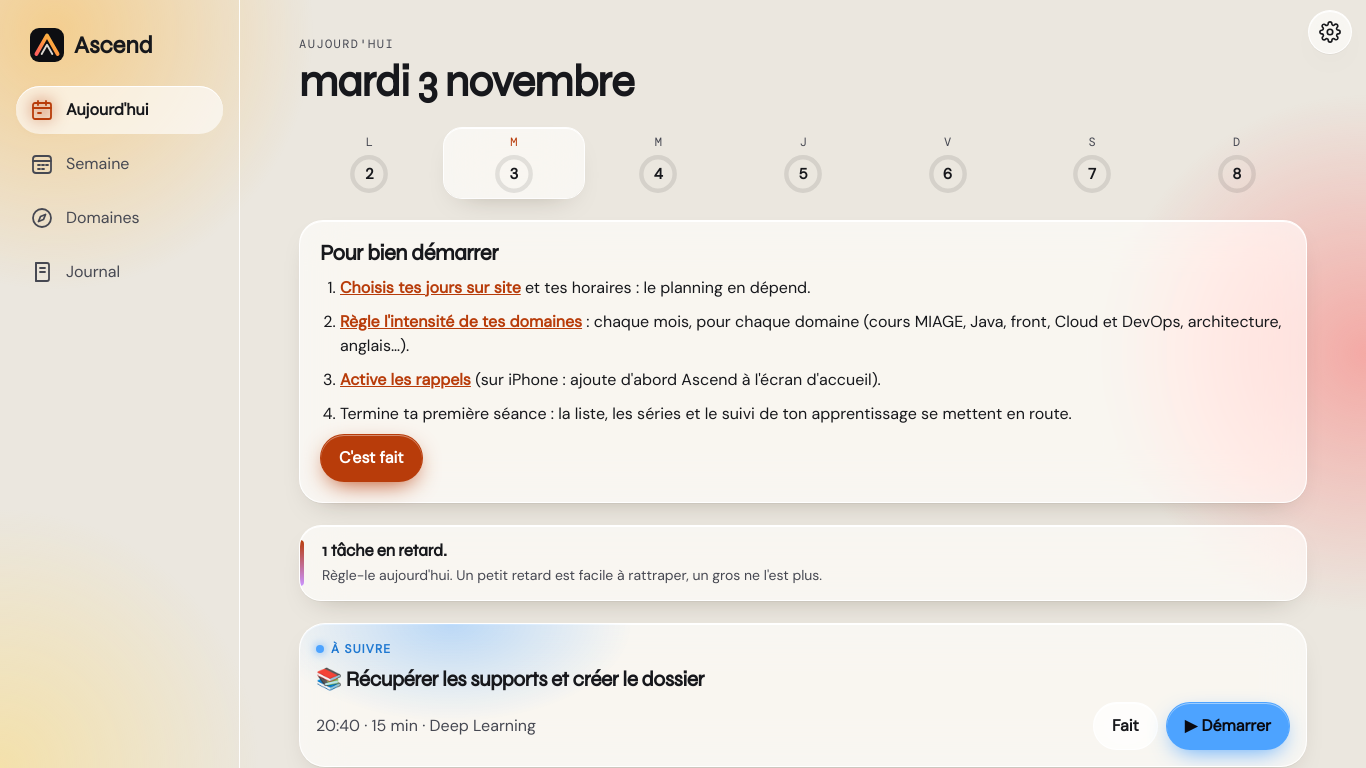
Test case: carte « Maintenant », mini-lecteur et concentration › affiche la prochaine action, la lance au minuteur et la termine depuis le plein écran
Step 1. Click the button "▶ Démarrer" → (1228, 726), box [1166, 702, 1290, 750]
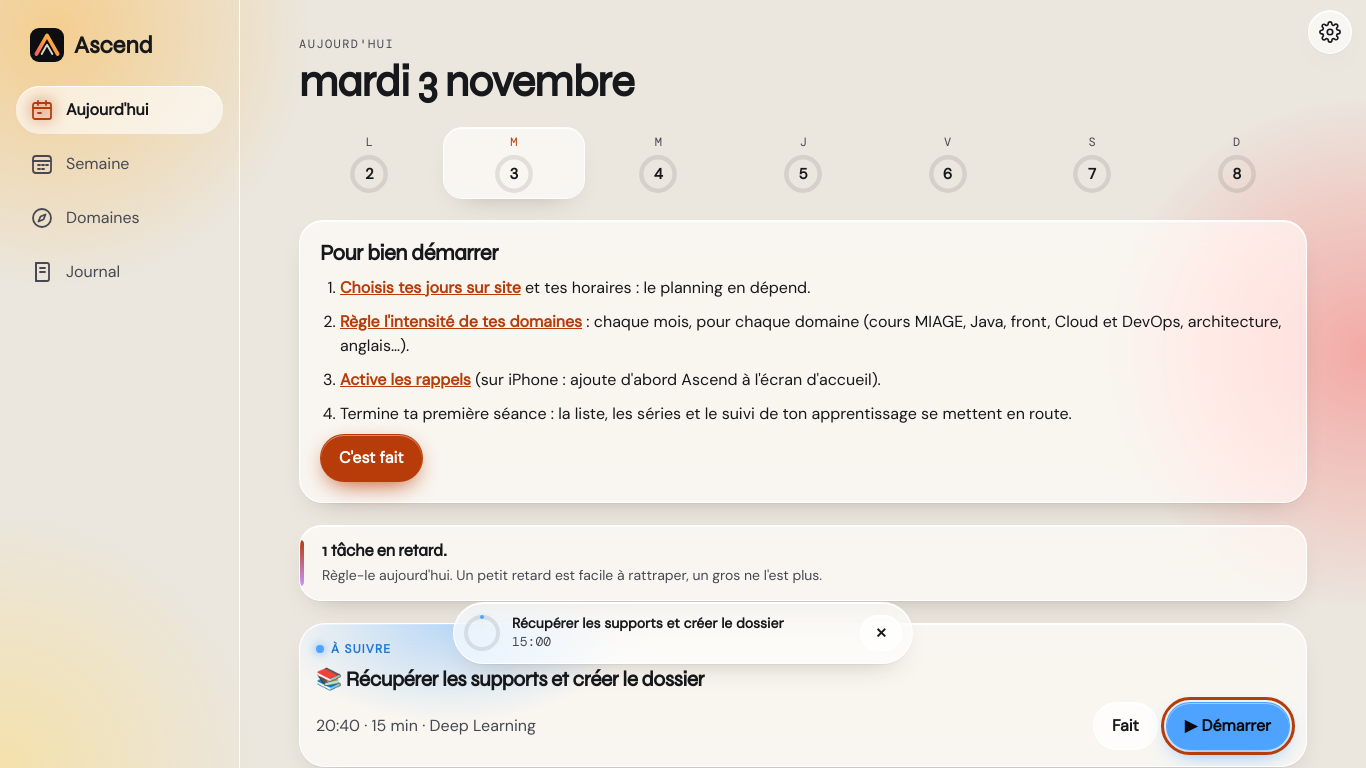
Step 2. Click the button with aria-label "Ouvrir le mode concentration" → (657, 633), box [462, 611, 852, 655]
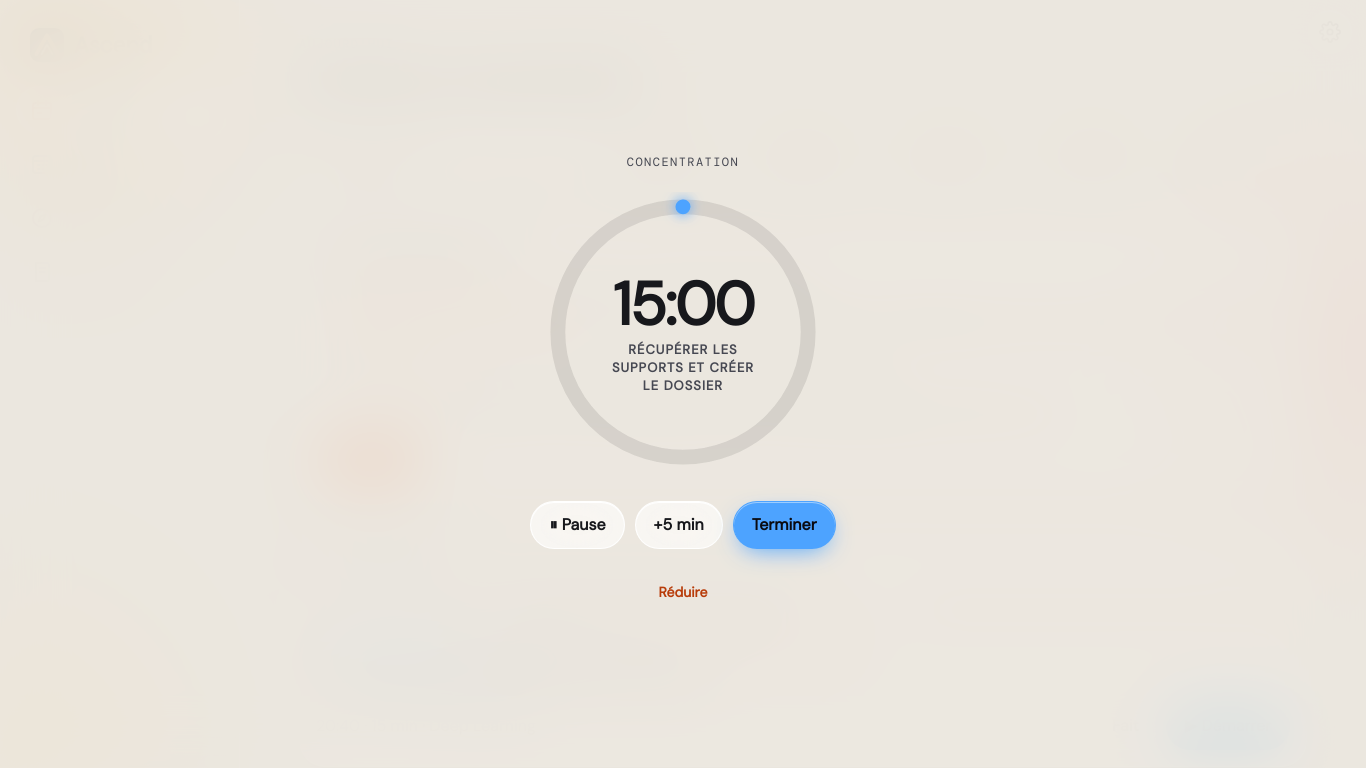
Step 3. Click the button "+5 min" → (679, 524), box [635, 500, 723, 548]
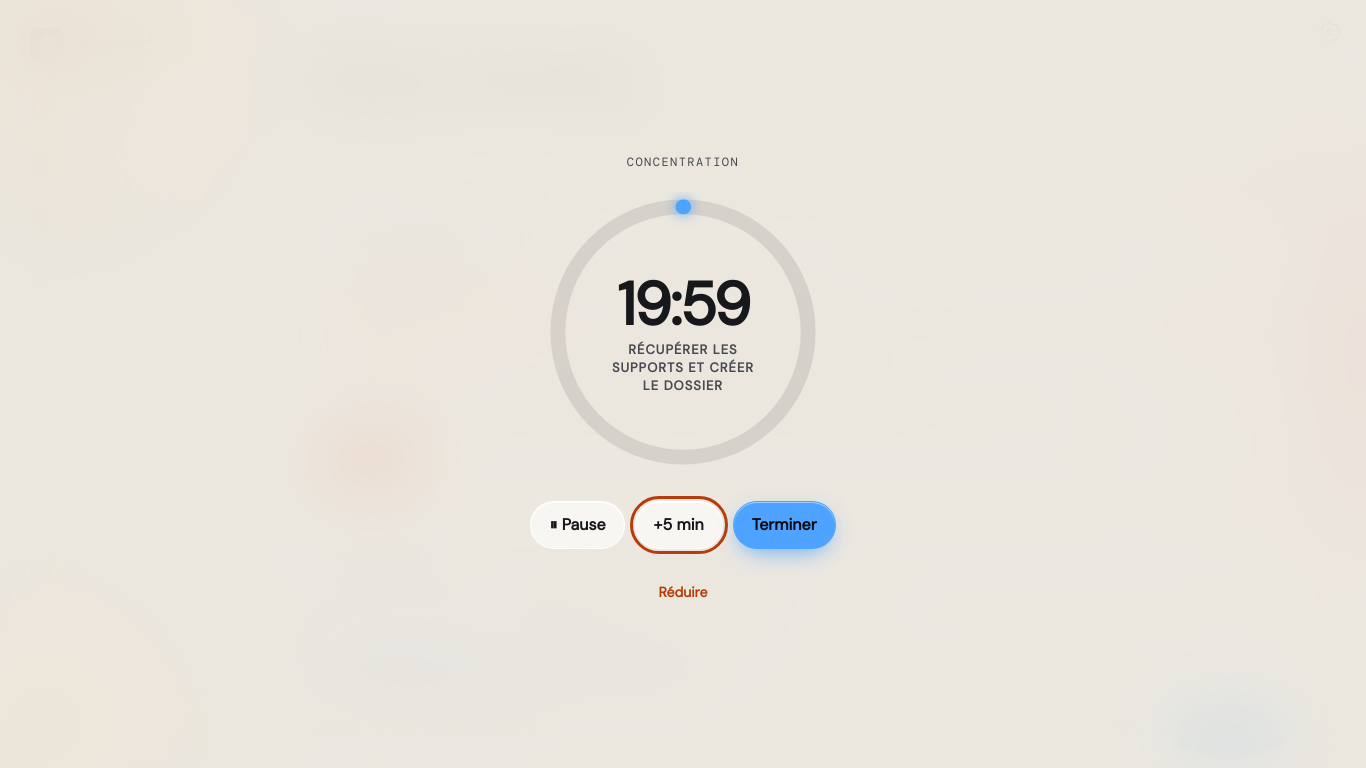
Step 4. Click the button "⏸ Pause" → (578, 524), box [530, 500, 625, 548]
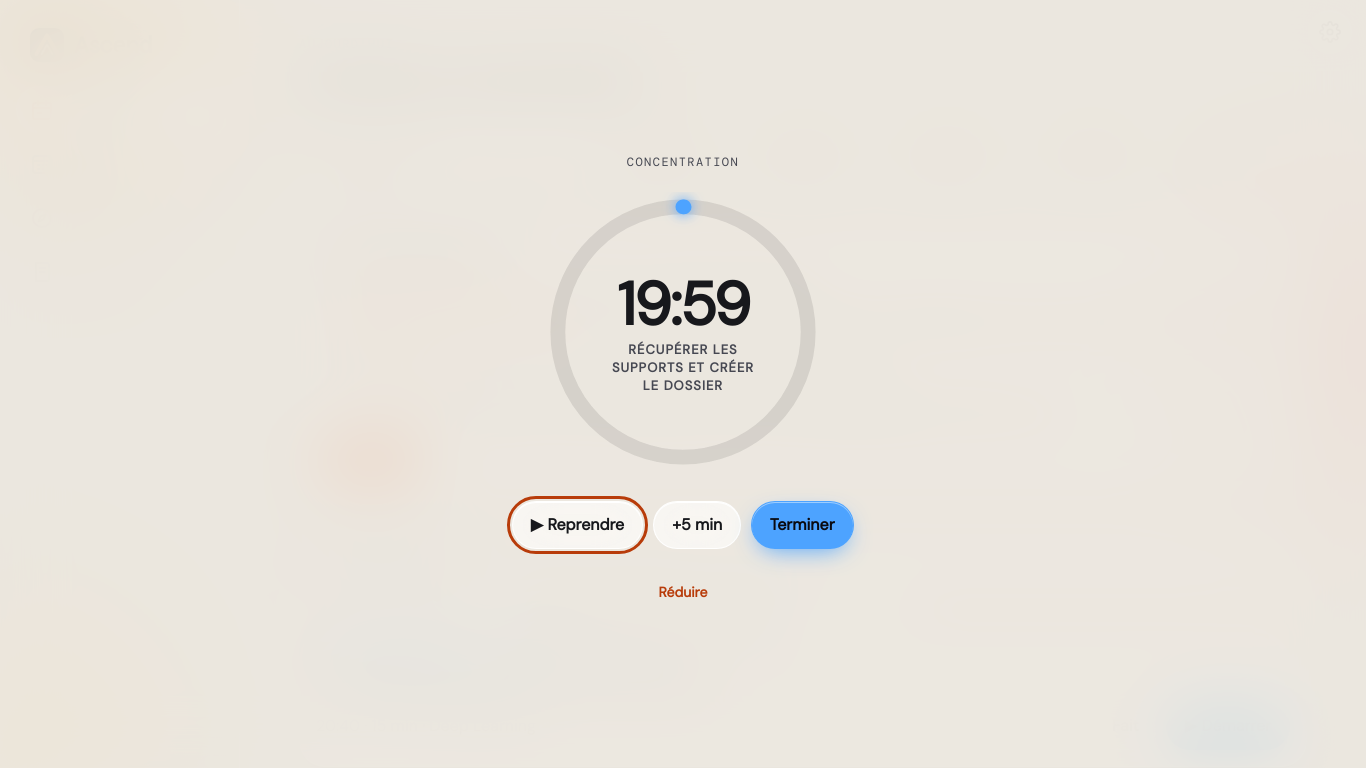
Check: the button "▶ Reprendre" is shown, box [512, 500, 643, 548]
Step 5. Click the button "Terminer" → (803, 524), box [751, 500, 854, 548]
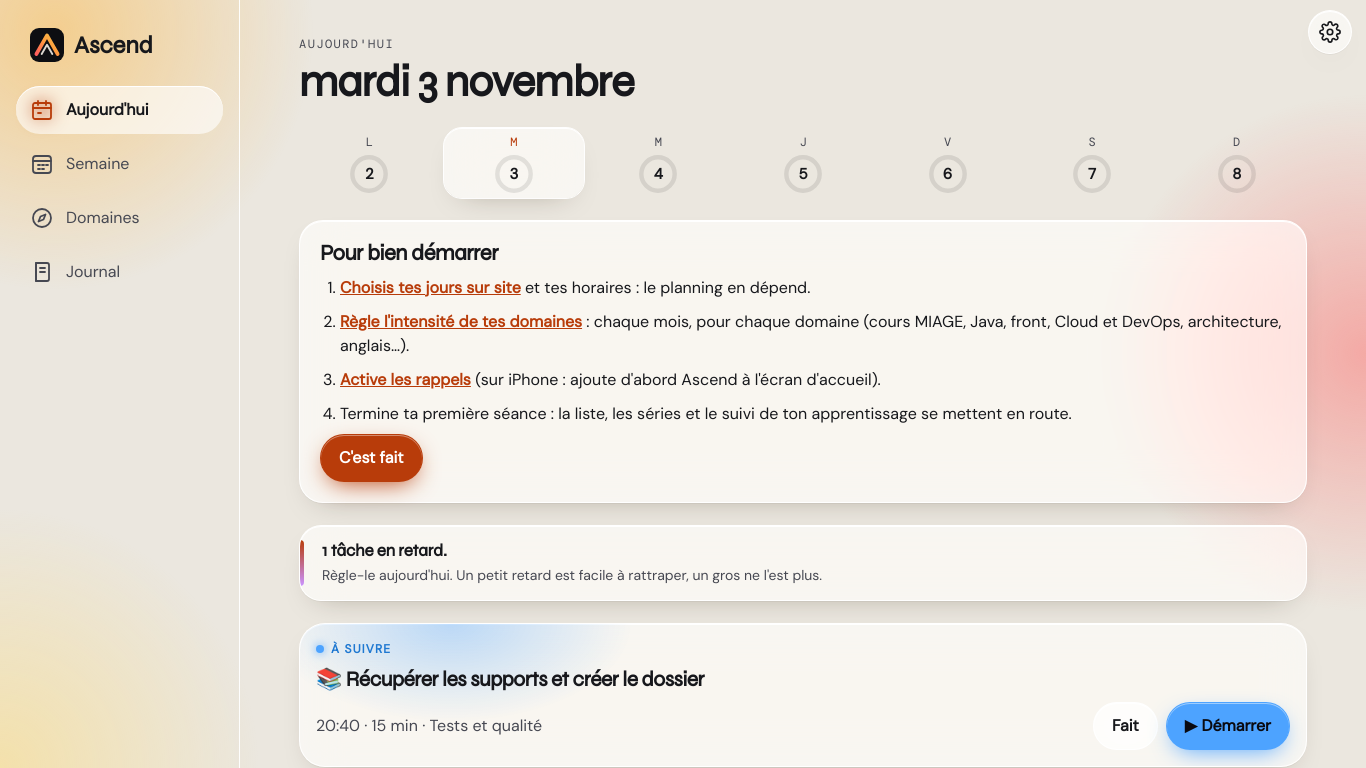
Check: the text "Concentration" is gone
